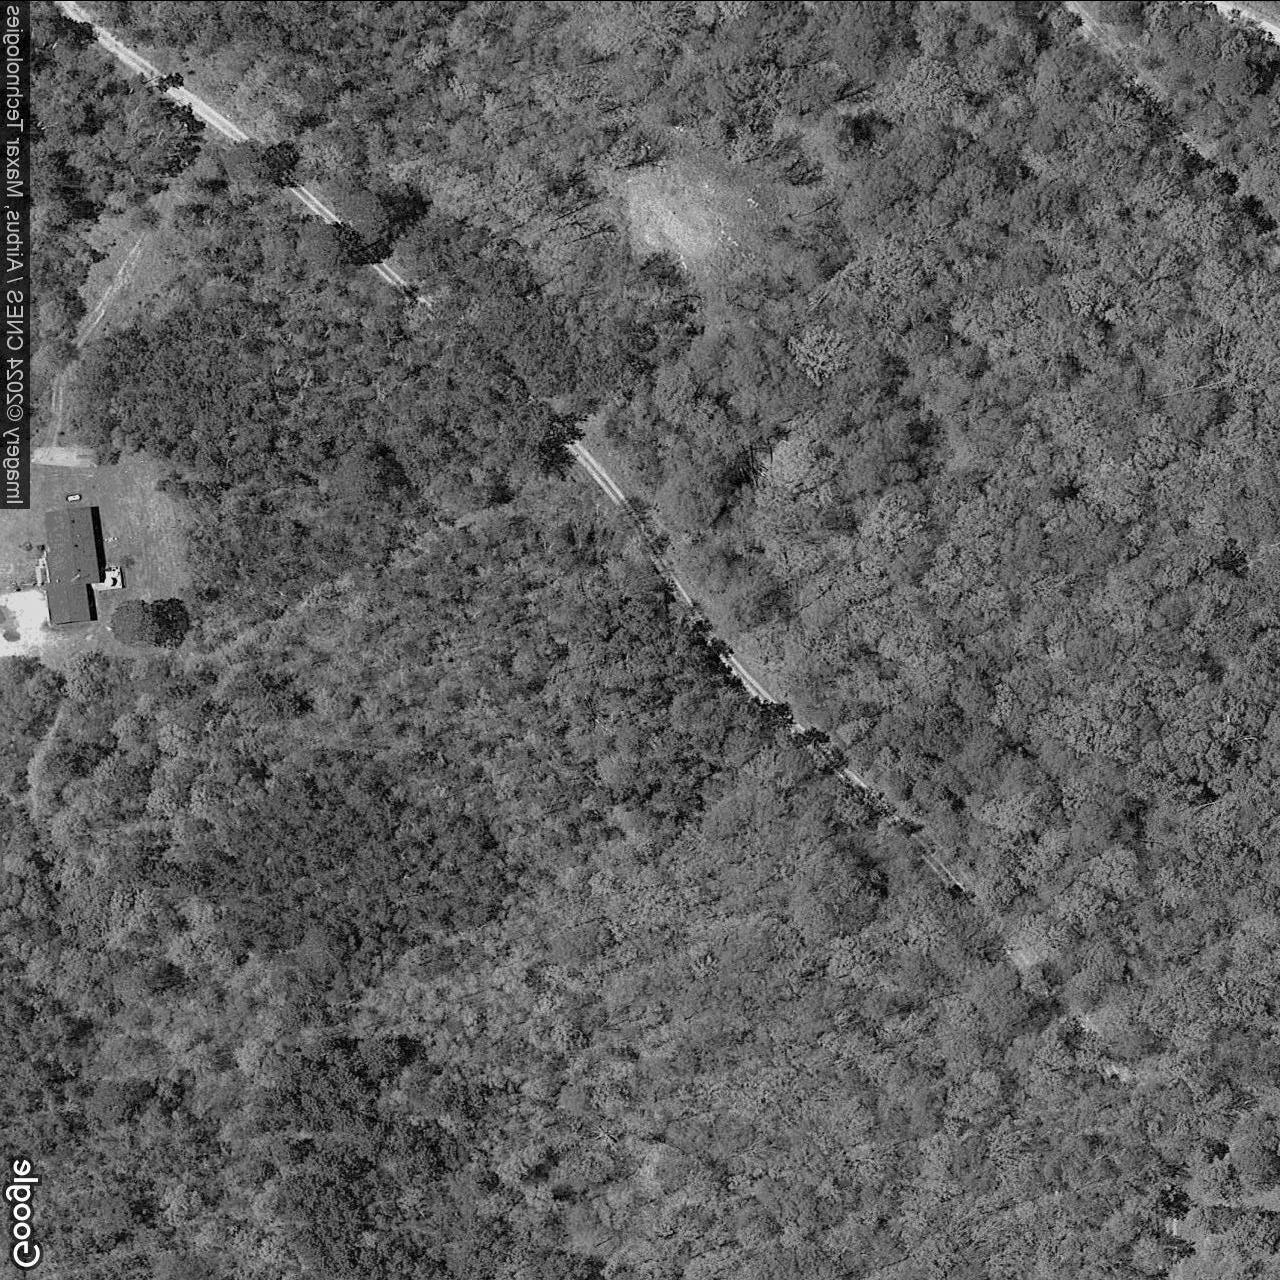House: (45, 505, 101, 624)
Propane: (64, 493, 82, 502)
